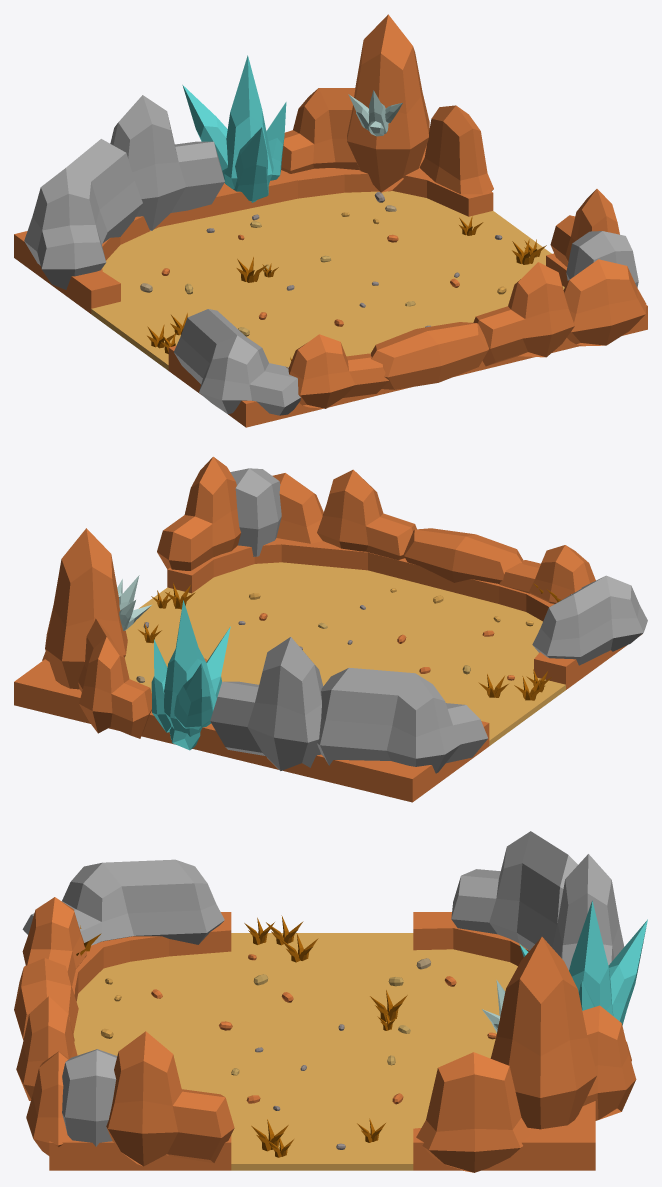
Rendered from cave level set - 2 Way (2).fbx.
The picture shows the model from 3 angles, top to bottom: view 1: azimuth 30°, elevation 25°; view 2: azimuth 150°, elevation 25°; view 3: azimuth 270°, elevation 25°; orthographic projection. The views are drawn at different scales.
Visible parts, largest first — view 1: land_platform_001, Cube_004, Cube, Cube_010, Cube_003, Cube_011, Cube_007, Cube_012, Cube_005, Cube_001, Cube_002, Cube_006 (+2 smaller); view 2: land_platform_001, Cube_004, Cube_010, Cube, Cube_003, Cube_011, Cube_009, Cube_001, Cube_007, Cube_012, Cube_002, Cube_008 (+1 smaller); view 3: land_platform_001, Cube, Cube_009, Cube_003, Cube_006, Cube_004, Cube_011, Cube_010, Cube_008, Cube_001, Cube_002, Cube_007 (+2 smaller).
Boxes of the visible parts, <box> form: land_platform_001: <box>14,145,647,427</box>; Cube_004: <box>24,139,142,289</box>; Cube: <box>347,14,429,192</box>; Cube_010: <box>110,95,224,230</box>; Cube_003: <box>174,309,300,415</box>; Cube_011: <box>182,55,286,202</box>; Cube_007: <box>473,262,574,366</box>; Cube_012: <box>370,322,488,389</box>; Cube_005: <box>563,259,646,346</box>; Cube_001: <box>281,88,359,173</box>; Cube_002: <box>288,334,388,408</box>; Cube_006: <box>419,105,493,194</box>; land_platform_001: <box>14,538,641,802</box>; Cube_004: <box>317,667,488,773</box>; Cube_010: <box>210,637,323,770</box>; Cube: <box>45,528,151,689</box>; Cube_003: <box>532,575,647,665</box>; Cube_011: <box>151,600,230,750</box>; Cube_009: <box>157,456,240,570</box>; Cube_001: <box>78,618,151,738</box>; Cube_007: <box>317,469,416,560</box>; Cube_012: <box>403,528,522,583</box>; Cube_002: <box>499,545,595,603</box>; Cube_008: <box>230,468,281,556</box>; land_platform_001: <box>49,912,595,1170</box>; Cube: <box>482,937,597,1129</box>; Cube_009: <box>106,1031,234,1166</box>; Cube_003: <box>22,859,224,945</box>; Cube_006: <box>416,1052,531,1172</box>; Cube_004: <box>451,831,577,950</box>; Cube_011: <box>519,900,647,1025</box>; Cube_010: <box>552,854,624,970</box>; Cube_008: <box>62,1049,117,1146</box>; Cube_001: <box>582,1005,636,1120</box>; Cube_002: <box>22,897,86,986</box>; Cube_007: <box>16,996,77,1100</box>.
Size of the model in its own units: 16.66 by 6.48 by 17.62.
